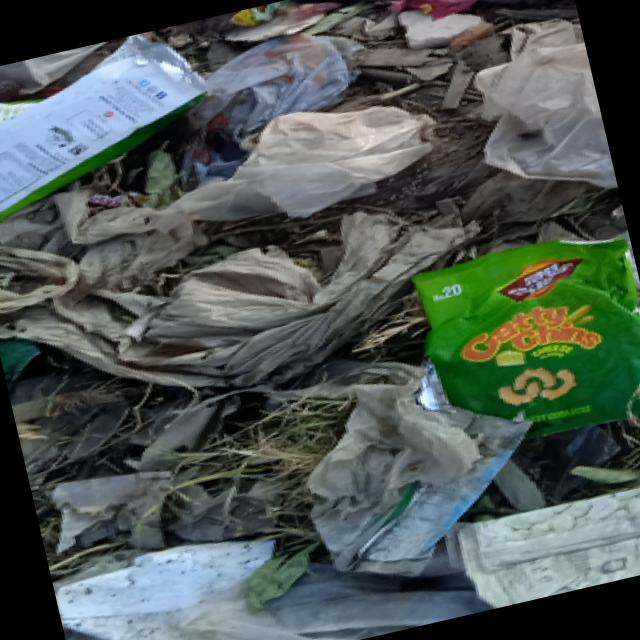electronic: (401, 218, 640, 460), (0, 20, 227, 227)
general: (452, 8, 618, 218)
